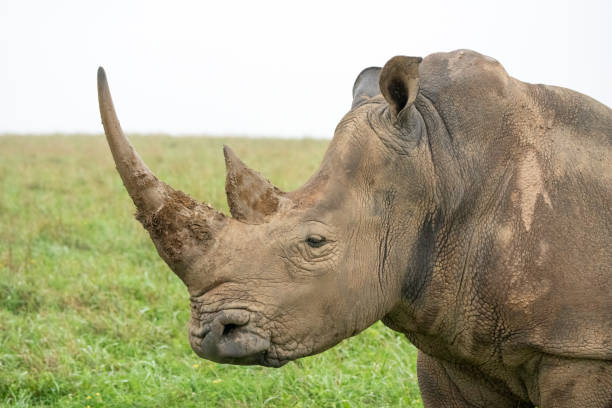rhino: (74, 31, 479, 383)
